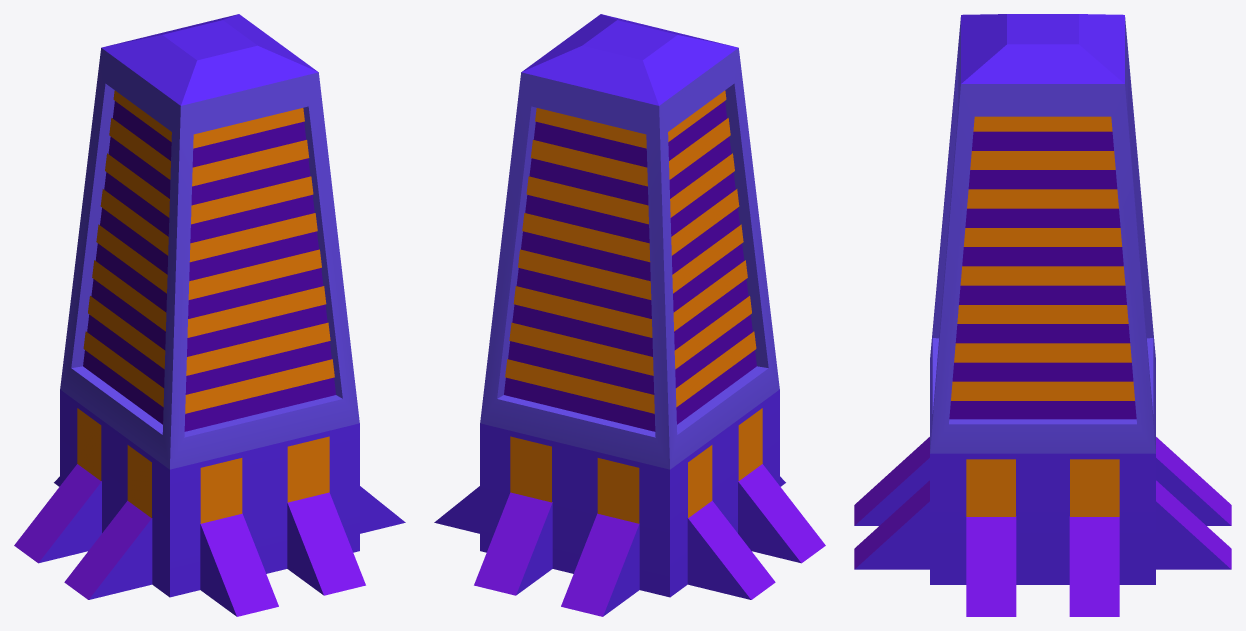
Rendered from Building_016_a.fbx.
The picture shows the model from 3 angles, left to right: view 1: azimuth 30°, elevation 25°; view 2: azimuth 150°, elevation 25°; view 3: azimuth 270°, elevation 25°; orthographic projection. The views are drawn at different scales.
Parts seen in each view (by area): view 1: Building_016_a; view 2: Building_016_a; view 3: Building_016_a.
Boxes of the visible parts, left/top/right/bottom form: Building_016_a: left=14, top=14, right=405, bottom=616; Building_016_a: left=434, top=14, right=825, bottom=616; Building_016_a: left=854, top=14, right=1231, bottom=616.
Bounding box in the file's own units: 45.34 × 67.4 × 45.34.
